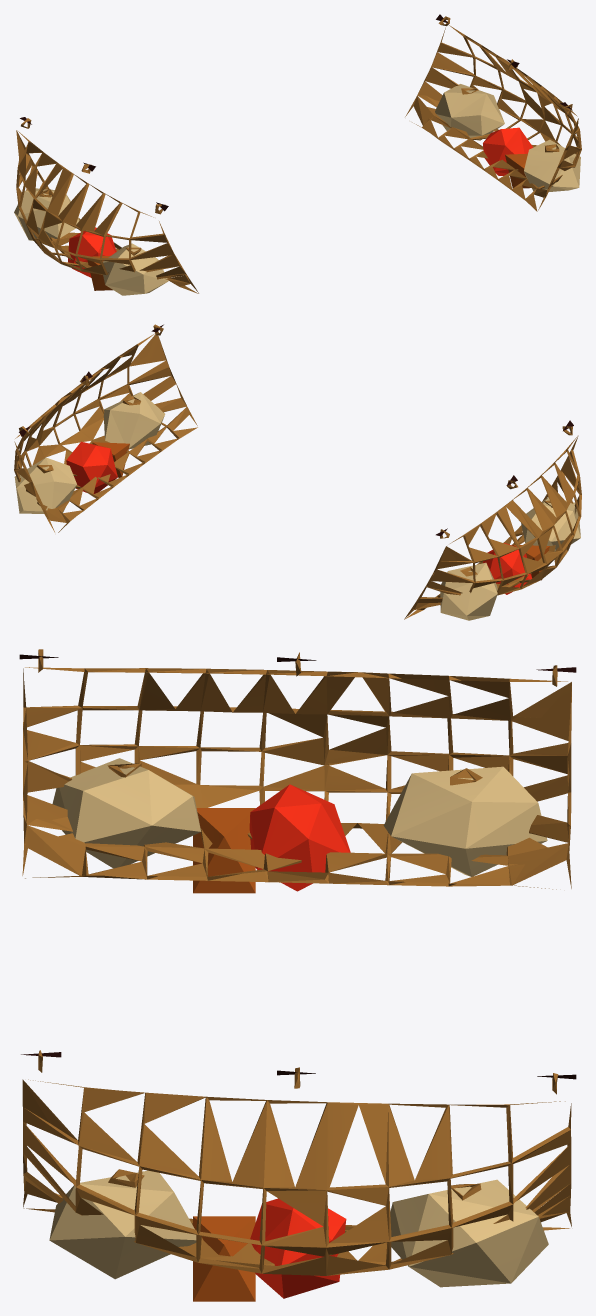
File: tb_upg_cargo_nets.three-web-toon.lod50.glb
3 renders of one model, top to bottom at view 1: azimuth 30°, elevation 25°; view 2: azimuth 150°, elevation 25°; view 3: azimuth 270°, elevation 25°, orthographic. The views are drawn at different scales.
Parts seen in each view (by area): view 1: tb_upg_cargo_nets_mesh_lod; view 2: tb_upg_cargo_nets_mesh_lod; view 3: tb_upg_cargo_nets_mesh_lod.
Boxes of the visible parts, box(x1,y1,x2,y2) form: tb_upg_cargo_nets_mesh_lod: box(14, 14, 581, 295); tb_upg_cargo_nets_mesh_lod: box(14, 324, 581, 620); tb_upg_cargo_nets_mesh_lod: box(19, 649, 576, 1301).
Bounding box in the file's own units: 4.5 × 1.03 × 2.13.
